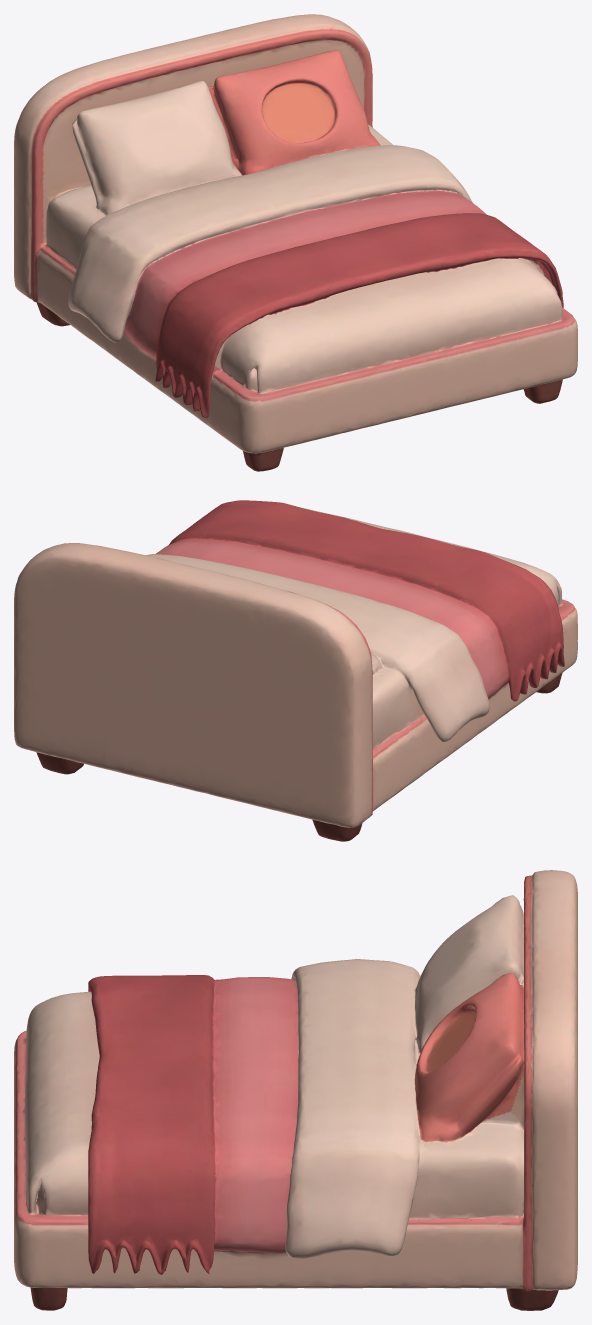
The model's file is bilik_bed.glb.
The picture shows the model from 3 angles, top to bottom: view 1: azimuth 30°, elevation 25°; view 2: azimuth 150°, elevation 25°; view 3: azimuth 270°, elevation 25°; orthographic projection. The views are drawn at different scales.
Bounding box in the file's own units: 0.9573 × 0.5552 × 1.
Materials: 1 (1 with a texture image).
